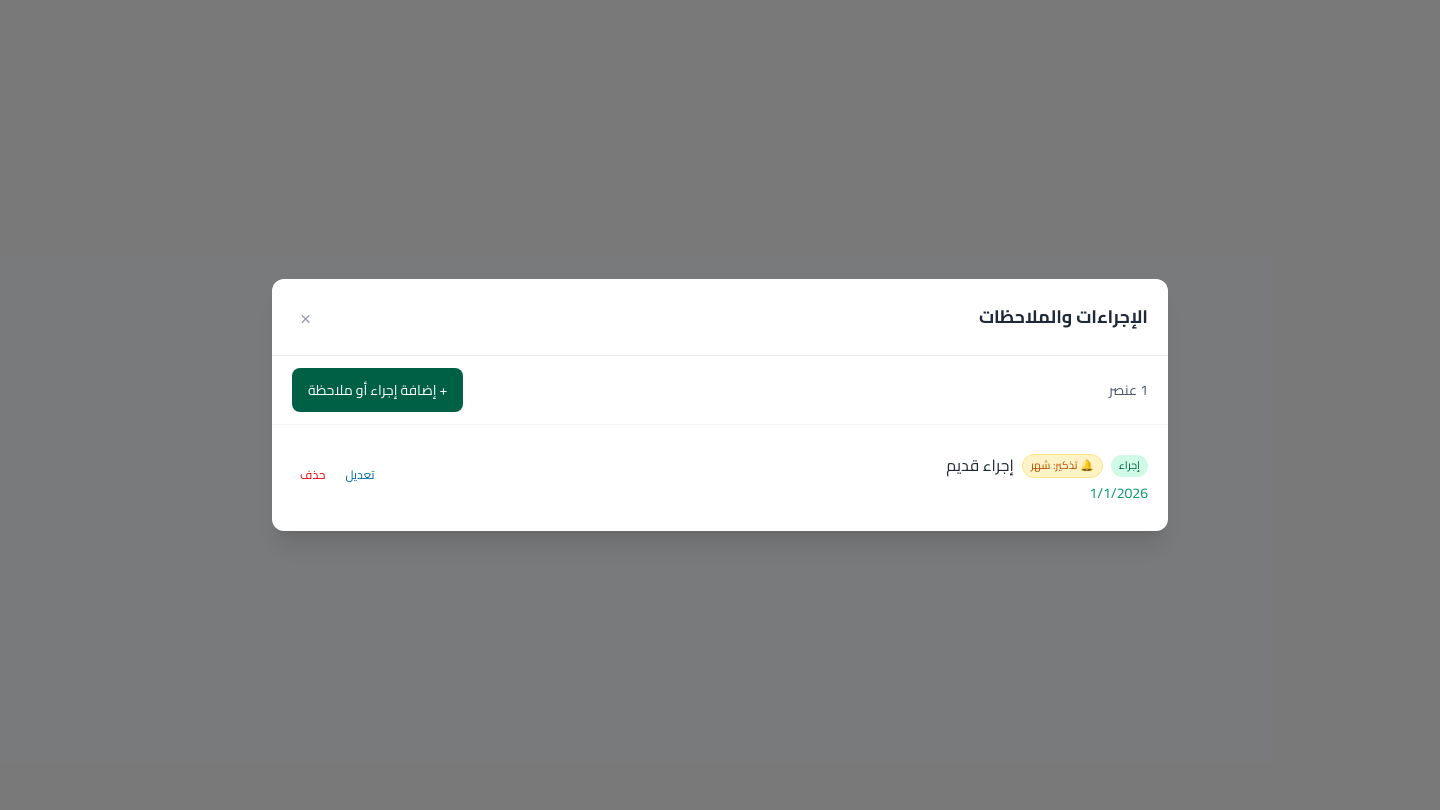
Test: ExecutionActionsModal › يعبّئ مدة ولون التذكير عند فتح نموذج تعديل عنصر له تذكير
Check: the text "إجراء قديم" is shown, box x1=946 y1=453 x2=1014 y2=479
Click the button labelled "تعديل": click(360, 475) x1=338 y1=453 x2=382 y2=497
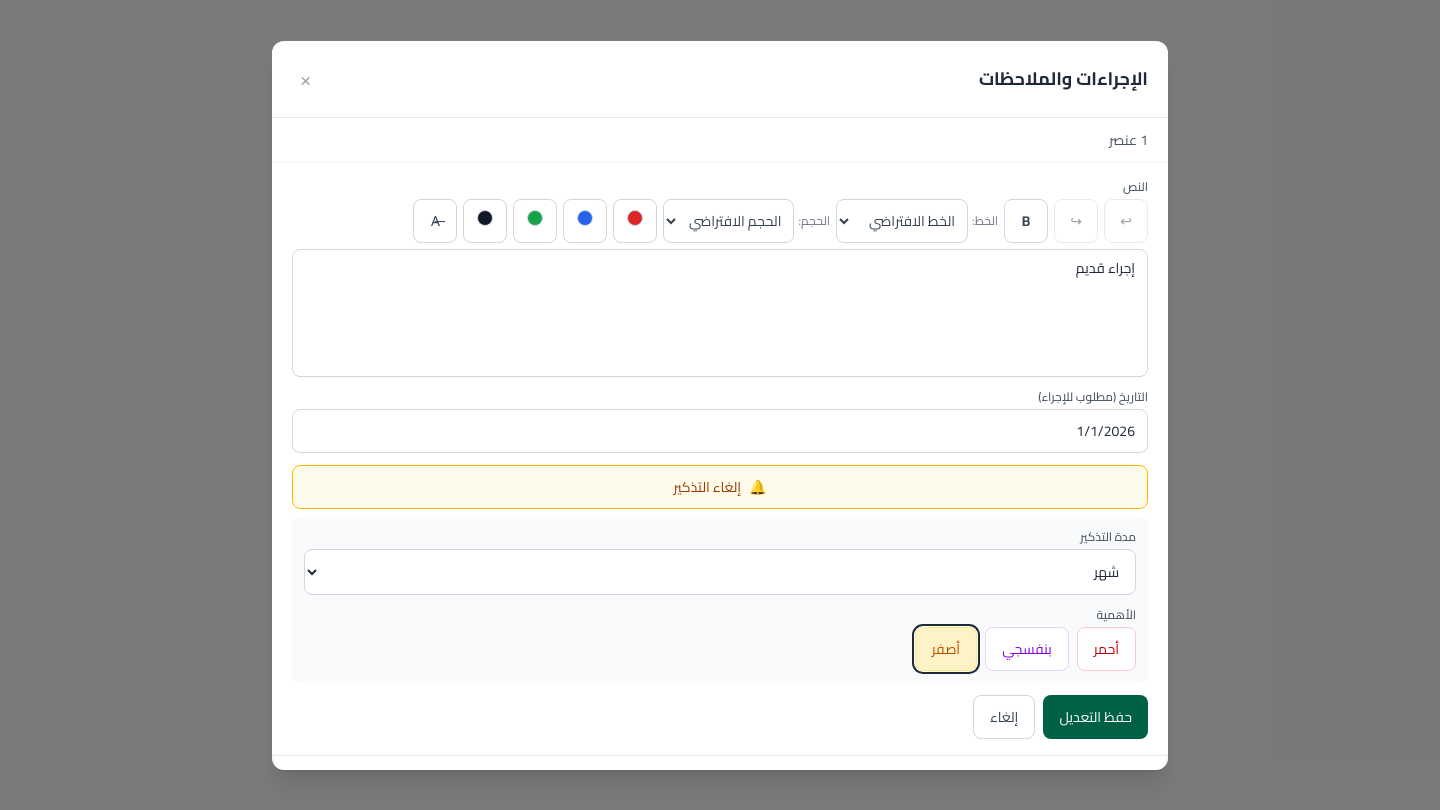
Check: the button "🔔 إلغاء التذكير" is shown, box x1=292 y1=464 x2=1148 y2=508
Check: the dropdown labelled "مدة التذكير" shows "شهر", box x1=304 y1=548 x2=1136 y2=594
Check: the button "أصفر" is shown, box x1=915 y1=626 x2=977 y2=670
